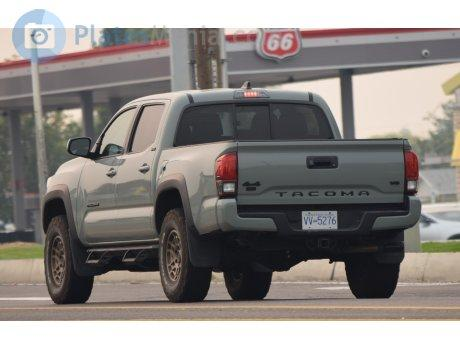licence: (298, 205, 341, 232)
